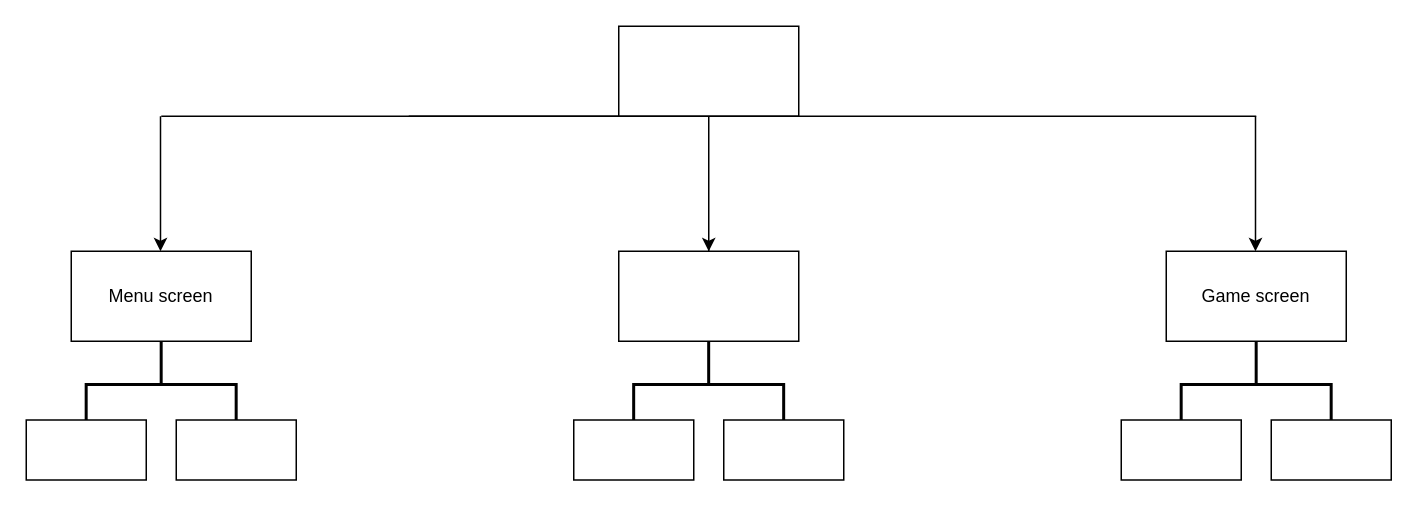
This 1418x507 diagram has some shape labels left out. The shapes that lost their labels are listed below. From the top down, each one's box as (x1, y1, x2, y2) in pixels, then its label:
(617, 25, 799, 116): Start Game
(617, 250, 799, 341): Login screen
